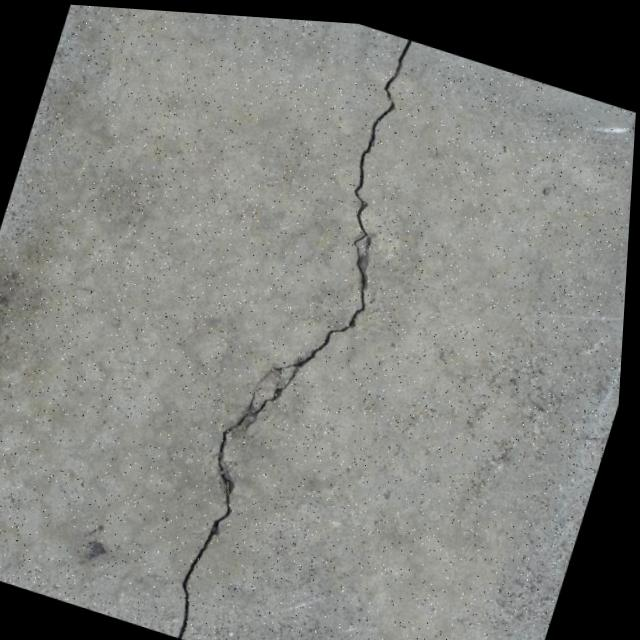Crack: (147, 9, 458, 640)
